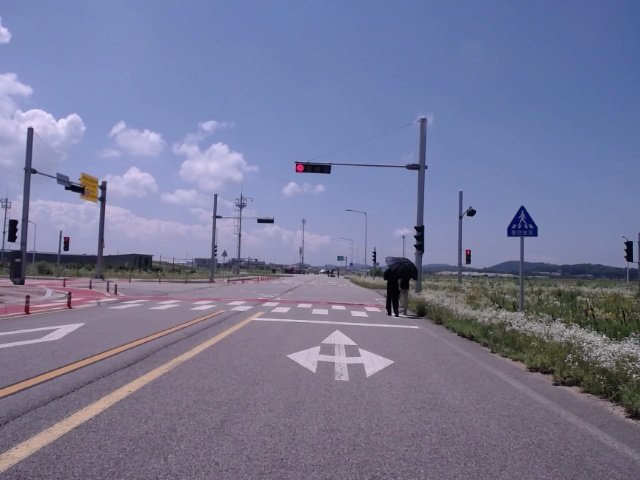red_4: (296, 164, 331, 174)
